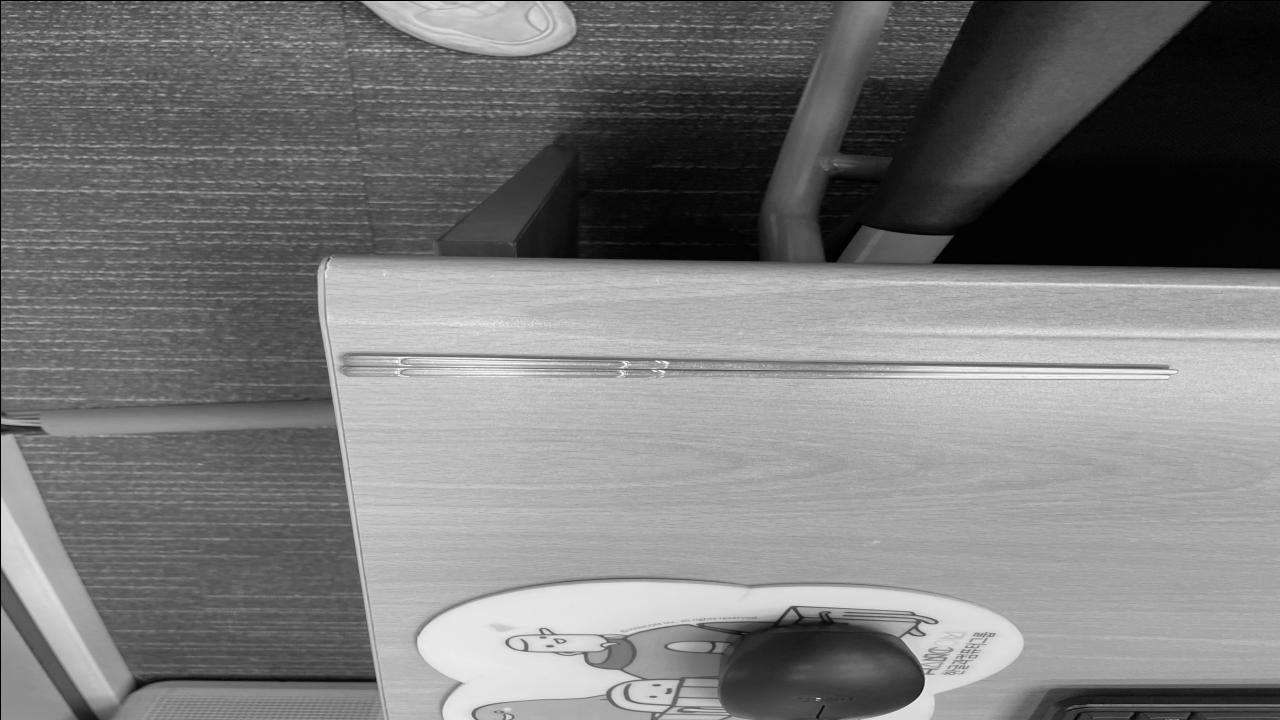chopstick: (336, 355, 1184, 378)
